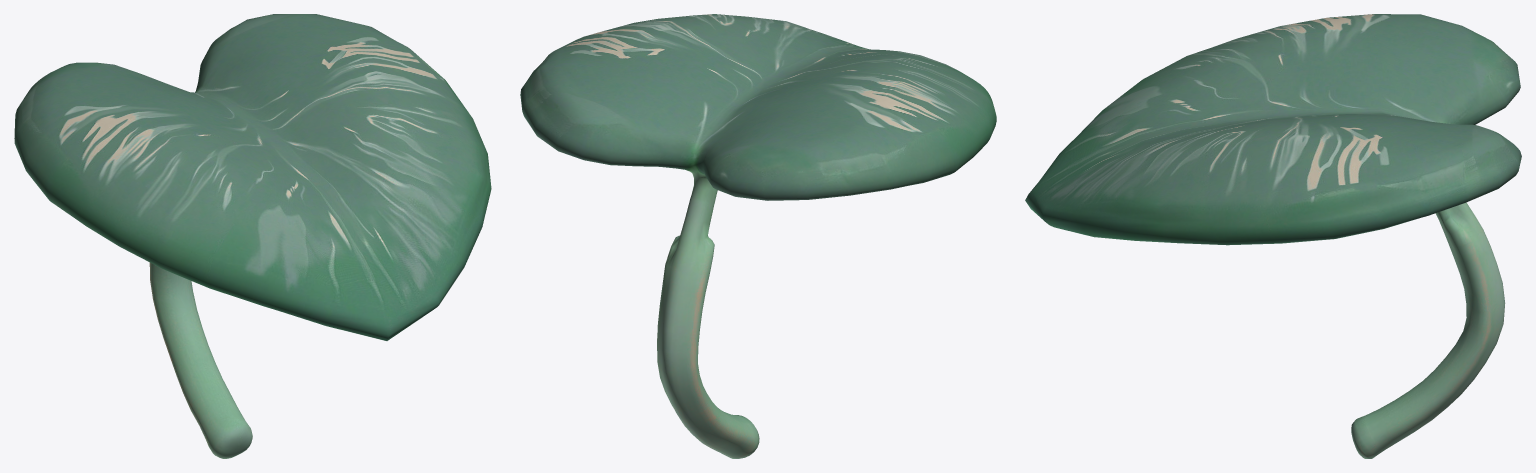
The model's file is heart_marble_2652_v1.glb.
The picture shows the model from 3 angles, left to right: view 1: azimuth 30°, elevation 25°; view 2: azimuth 150°, elevation 25°; view 3: azimuth 270°, elevation 25°; orthographic projection. The views are drawn at different scales.
Parts seen in each view (by area): view 1: world; view 2: world; view 3: world.
Boxes of the visible parts, x1,y1,x2,y2 form: world: [14, 14, 491, 458]; world: [520, 14, 996, 458]; world: [1025, 14, 1521, 458].
Bounding box in the file's own units: 1.85 × 1.66 × 2.
Materials: 1 (1 with a texture image).
